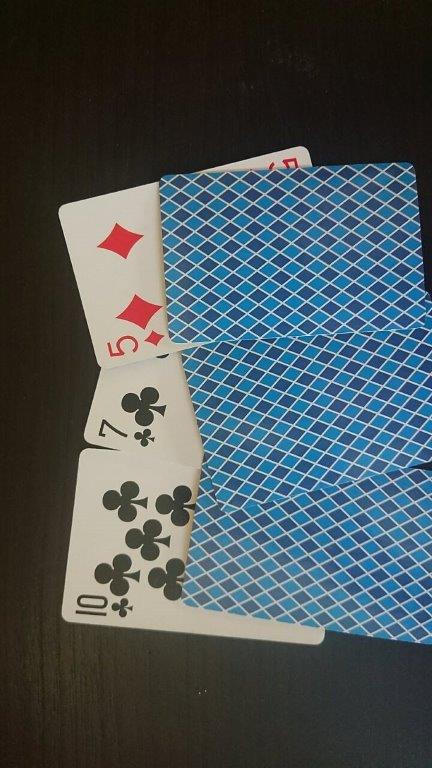10C: (58, 448, 179, 633)
5D: (56, 182, 157, 373)
7C: (82, 371, 179, 452)
BACK: (157, 161, 427, 346), (182, 354, 432, 516), (178, 519, 432, 649)
